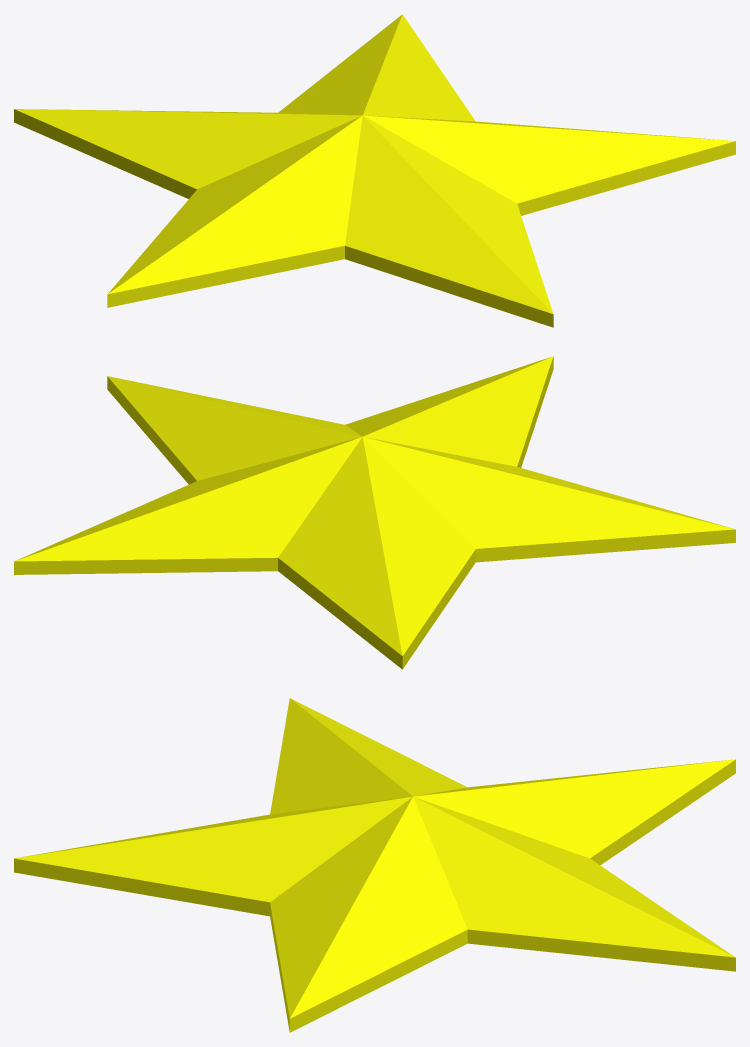
File: star_yellow.glb
3 views of the same model, one above another, from view 1: azimuth 30°, elevation 25°; view 2: azimuth 150°, elevation 25°; view 3: azimuth 270°, elevation 25° (orthographic). The views are drawn at different scales.
Visible parts, largest first — view 1: Star; view 2: Star; view 3: Star.
Part boxes in pixels (left/top/right/bottom): Star: left=14, top=14, right=735, bottom=327; Star: left=14, top=356, right=735, bottom=669; Star: left=14, top=698, right=735, bottom=1032.
Size of the model in its own units: 4.58 by 0.917 by 4.35.
